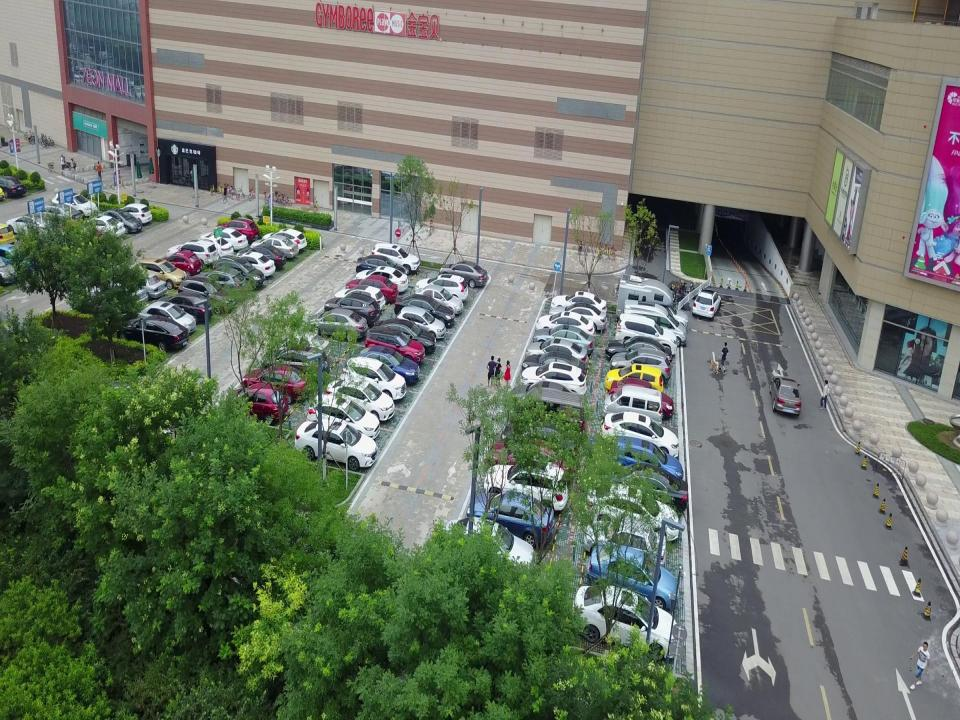car: (572, 585, 676, 662), (586, 543, 678, 610), (444, 516, 535, 580), (587, 483, 679, 541), (466, 490, 554, 547), (598, 462, 688, 514), (583, 516, 665, 572), (483, 460, 568, 514), (603, 435, 683, 490), (487, 437, 572, 487), (294, 419, 378, 469), (601, 412, 679, 461), (306, 393, 380, 441), (326, 377, 394, 422), (614, 313, 678, 358), (510, 380, 578, 422), (340, 357, 406, 400), (501, 417, 579, 453), (224, 383, 289, 425), (609, 378, 673, 420), (116, 315, 188, 351), (242, 365, 308, 404), (520, 361, 586, 399), (374, 318, 436, 356), (358, 345, 420, 383), (610, 347, 671, 385), (365, 327, 425, 365), (178, 275, 236, 314), (606, 336, 672, 369), (393, 293, 455, 328), (135, 301, 195, 335), (308, 309, 368, 342), (605, 363, 663, 397), (213, 254, 266, 291), (273, 331, 330, 365), (526, 337, 588, 368), (534, 324, 594, 356), (262, 350, 328, 379), (157, 290, 213, 324), (522, 351, 586, 380), (324, 294, 380, 326), (548, 302, 607, 332), (396, 307, 446, 340), (334, 285, 384, 318), (536, 311, 594, 339), (371, 242, 419, 275), (166, 239, 217, 270), (416, 274, 468, 303), (356, 266, 408, 295), (138, 258, 186, 289), (345, 275, 398, 303), (550, 291, 606, 317), (415, 286, 463, 316), (440, 260, 488, 289), (228, 251, 276, 280), (51, 190, 98, 219), (122, 270, 166, 300), (769, 376, 801, 417), (196, 268, 246, 294), (250, 235, 299, 261), (356, 255, 406, 280), (236, 245, 286, 270), (198, 228, 248, 253), (77, 216, 125, 242), (156, 249, 200, 277), (36, 202, 80, 230), (186, 234, 234, 259), (214, 216, 260, 242), (96, 208, 142, 234), (262, 228, 308, 253), (110, 279, 147, 309), (5, 213, 49, 237), (0, 243, 36, 271), (692, 288, 722, 321), (116, 202, 153, 226), (0, 175, 26, 197), (0, 258, 18, 286), (0, 223, 15, 246)
van: (616, 273, 688, 333), (512, 389, 586, 435), (624, 298, 686, 346), (602, 387, 662, 425)
